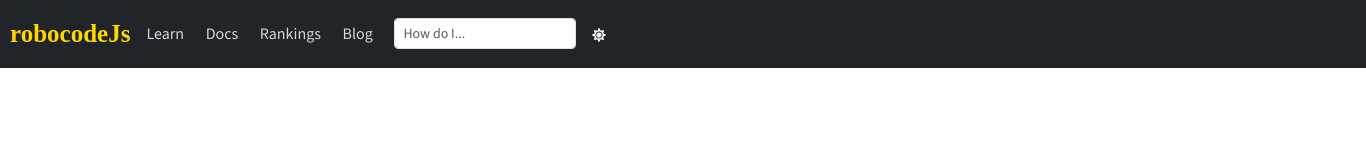
Test case: NavBar search › reports a server error rather than swallowing it
Type "how do I fire" into the search field named "Search".
click(485, 34); type("how do I fire")  # box [394,18,576,49]
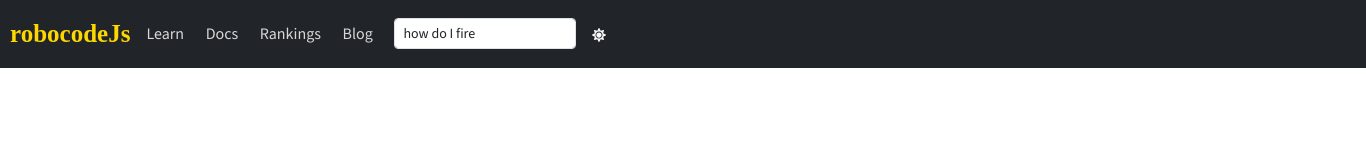
Press Enter in the search field named "Search", box [394,18,576,49]
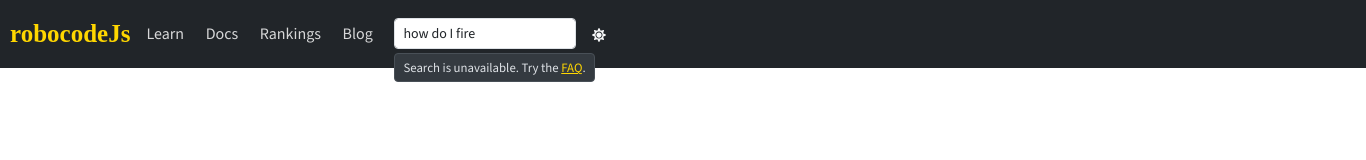
expect the text "Search is unavailable. Try the FAQ ." is shown: met, box [394,53,595,82]
